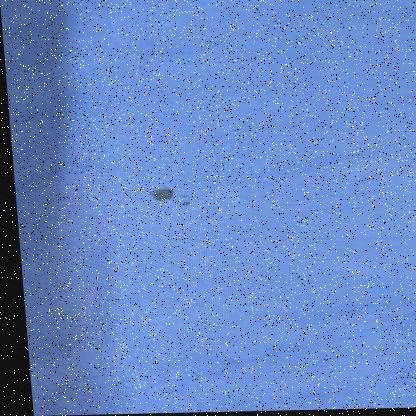spot: (120, 176, 196, 224)
